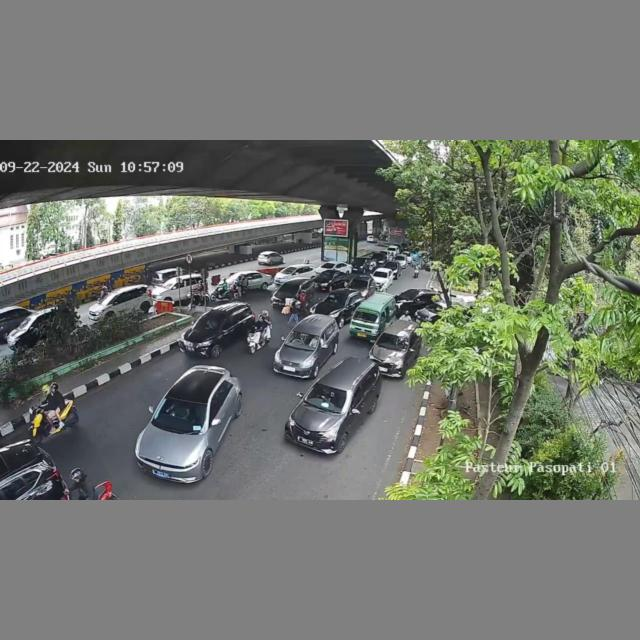windshield: (152, 397, 207, 431), (303, 383, 347, 412), (285, 329, 321, 351), (375, 333, 408, 350), (193, 314, 222, 332), (353, 307, 381, 323), (323, 293, 347, 304), (277, 283, 299, 293)
